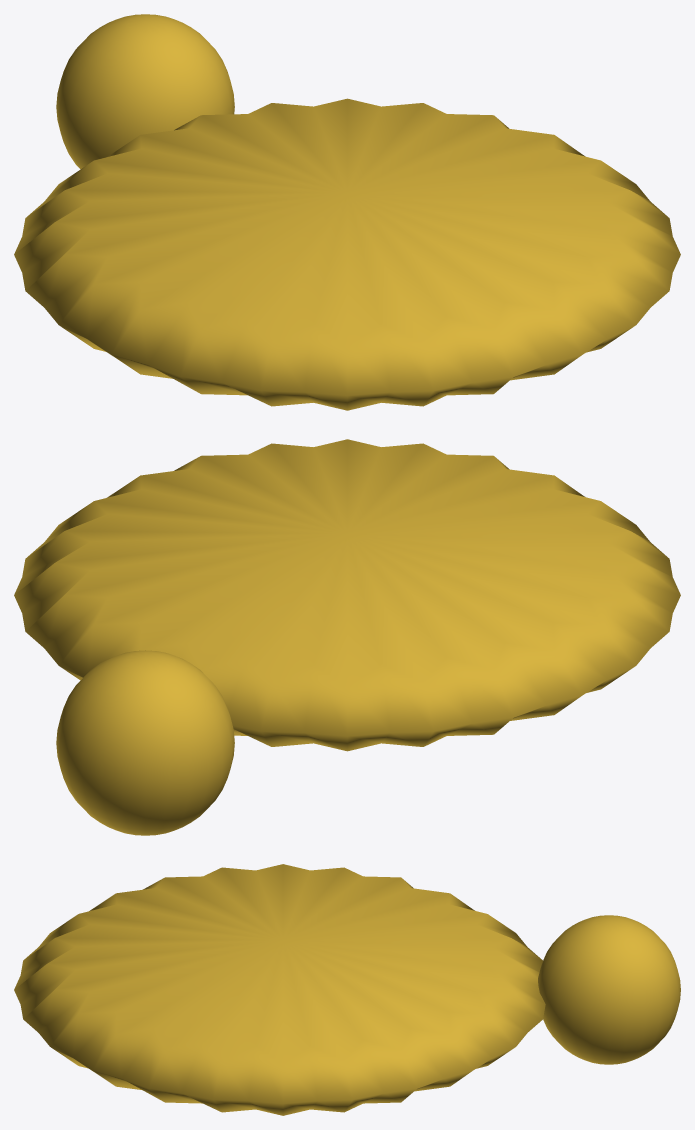
The model's file is prop_watch.glb.
The picture shows the model from 3 angles, top to bottom: view 1: azimuth 30°, elevation 25°; view 2: azimuth 150°, elevation 25°; view 3: azimuth 270°, elevation 25°; orthographic projection. The views are drawn at different scales.
Visible parts, largest first — view 1: prop_watch; view 2: prop_watch; view 3: prop_watch.
Part boxes in pixels (x1=…): prop_watch: x1=14, y1=14, x2=680, y2=410; prop_watch: x1=14, y1=439, x2=680, y2=835; prop_watch: x1=14, y1=864, x2=680, y2=1115.
Bounding box in the file's own units: 0.0562 × 0.0158 × 0.0696.
